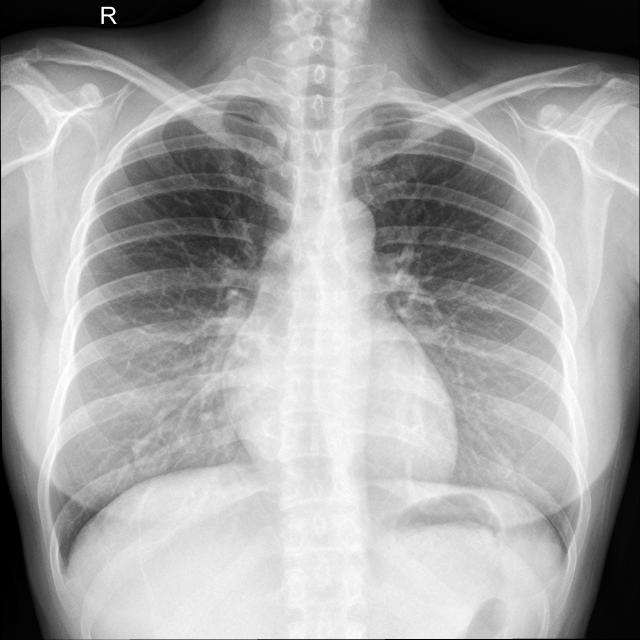no-pneumonia: (57, 96, 292, 554), (354, 104, 579, 542)
